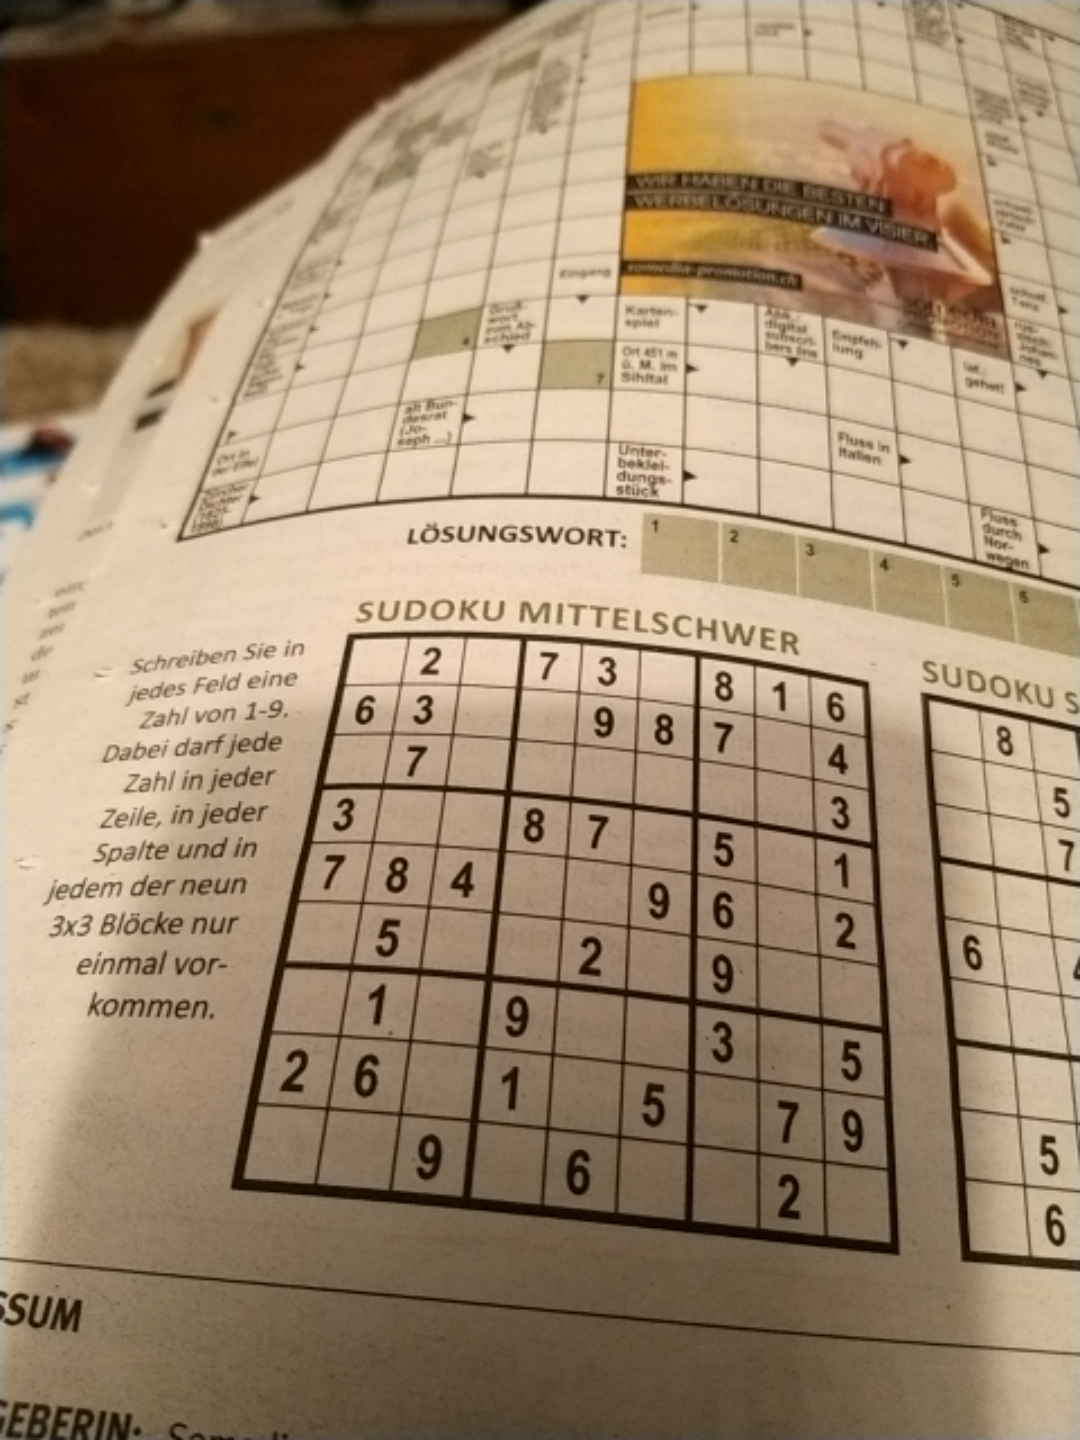sudoku: (229, 633, 901, 1261)
